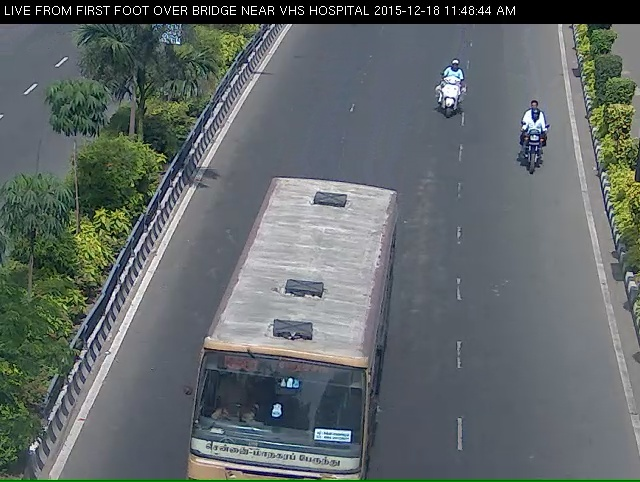Bus: (187, 178, 379, 480)
Person: (514, 99, 550, 182), (433, 64, 464, 124)
